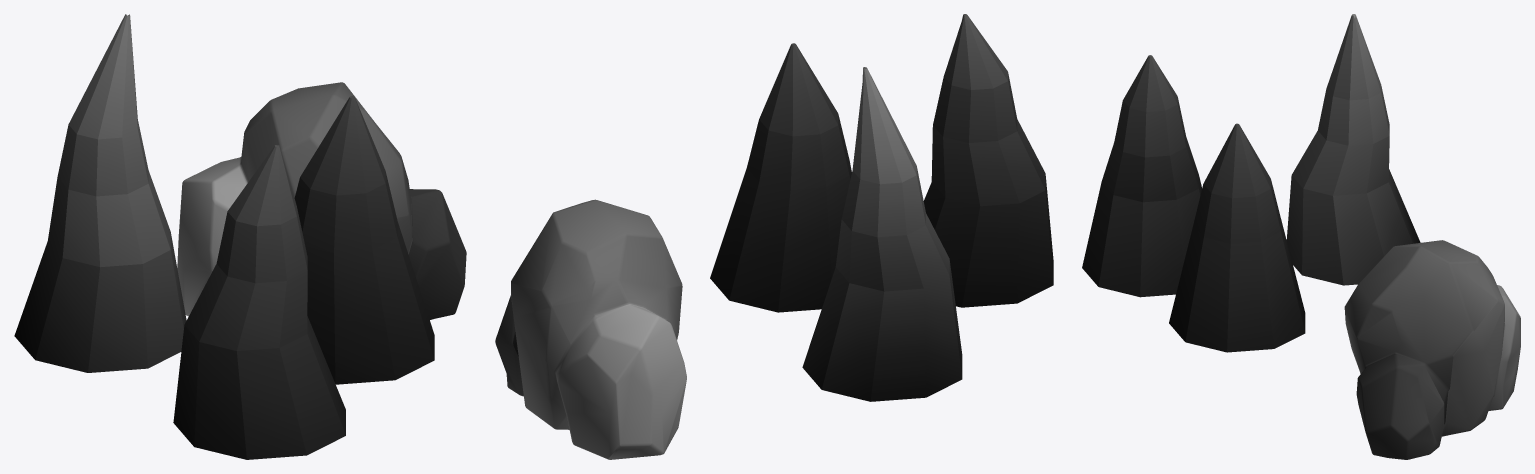
File: gamejam_Assets_Big.fbx
3 renders of one model, left to right at view 1: azimuth 30°, elevation 25°; view 2: azimuth 150°, elevation 25°; view 3: azimuth 270°, elevation 25°, orthographic. The views are drawn at different scales.
Visible parts, largest first — view 1: Cylinder.005, Cylinder.004, Cylinder.003, Stone_low; view 2: Stone_low, Cylinder.005, Cylinder.004, Cylinder.003; view 3: Stone_low, Cylinder.005, Cylinder.003, Cylinder.004.
Boxes of the visible parts, x1,y1,x2,y2 form: Cylinder.005: (14,14,186,372); Cylinder.004: (173,145,345,459); Cylinder.003: (294,96,434,384); Stone_low: (177,82,466,319); Stone_low: (495,199,686,459); Cylinder.005: (802,67,962,401); Cylinder.004: (923,14,1053,307); Cylinder.003: (710,43,851,312); Stone_low: (1344,240,1520,459); Cylinder.005: (1286,14,1420,285); Cylinder.003: (1169,123,1305,352); Cylinder.004: (1082,55,1201,297).
Bounding box in the file's own units: 3388 × 2754 × 3527.
Materials: 2 (2 with a texture image).
